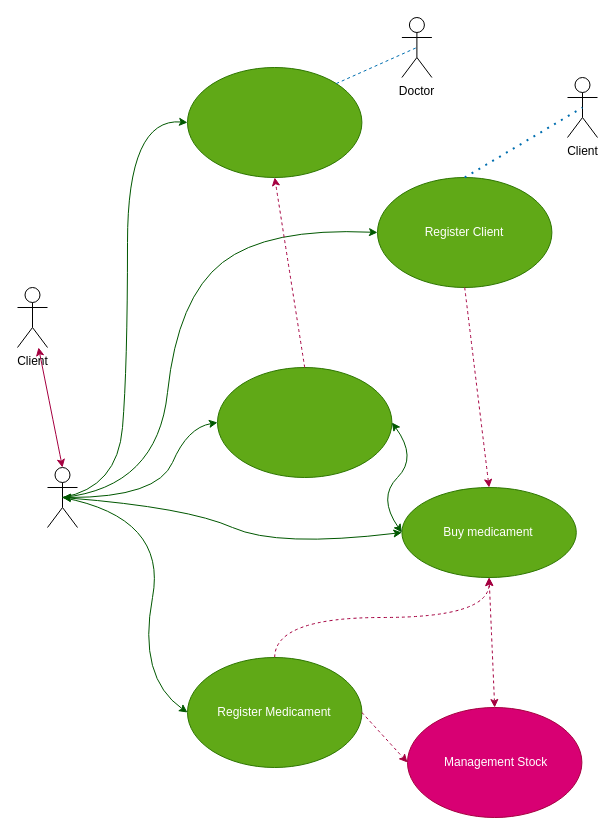
Image size: 615x835. Some labels were removed from this diagram. Each missing label, with the box of its shape:
operator: (46, 466, 78, 528)
Orfonnance: (216, 366, 392, 478)
Register Doctor: (186, 66, 362, 178)
